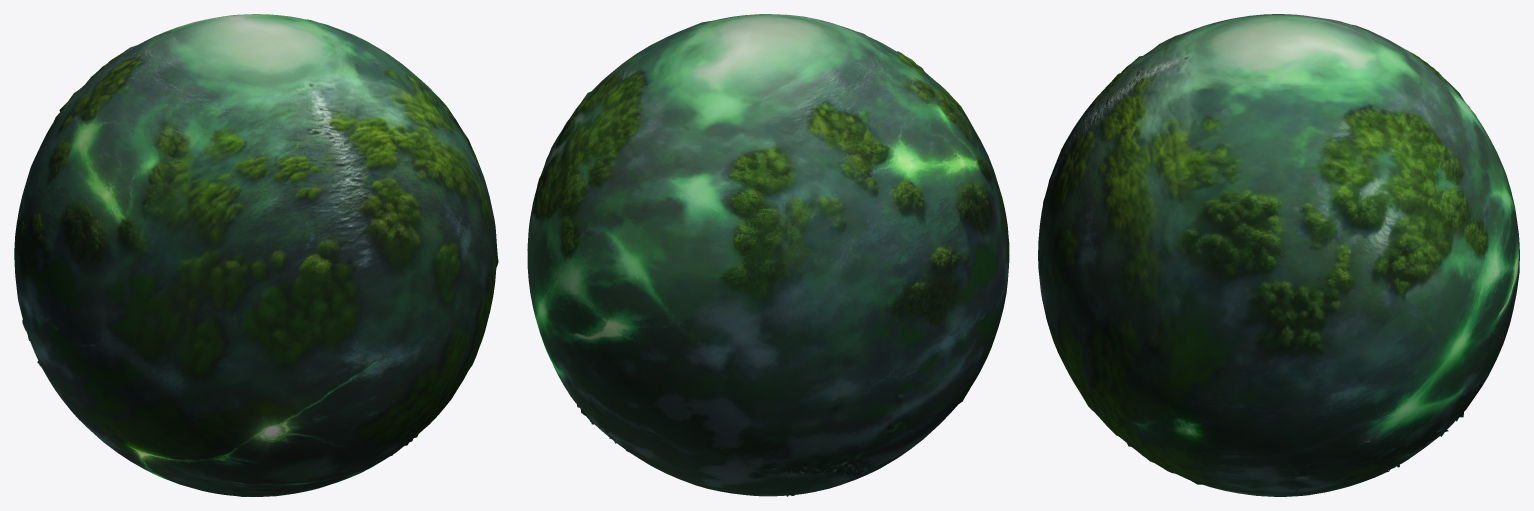
File: jungle_planet_4.glb
The picture shows the model from 3 angles, left to right: view 1: azimuth 30°, elevation 25°; view 2: azimuth 150°, elevation 25°; view 3: azimuth 270°, elevation 25°; orthographic projection.
Parts seen in each view (by area): view 1: Mesh_0.035; view 2: Mesh_0.035; view 3: Mesh_0.035.
Boxes of the visible parts, x1,y1,x2,y2 form: Mesh_0.035: (14,14,498,496); Mesh_0.035: (527,14,1009,496); Mesh_0.035: (1038,14,1519,496).
Size of the model in its own units: 2 by 2 by 2.
Materials: 1 (1 with a texture image).
